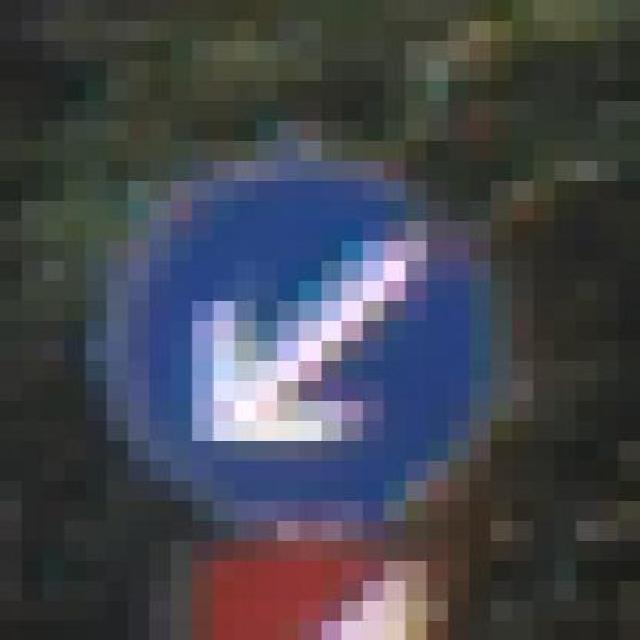Keep-Left: (42, 120, 576, 540)
